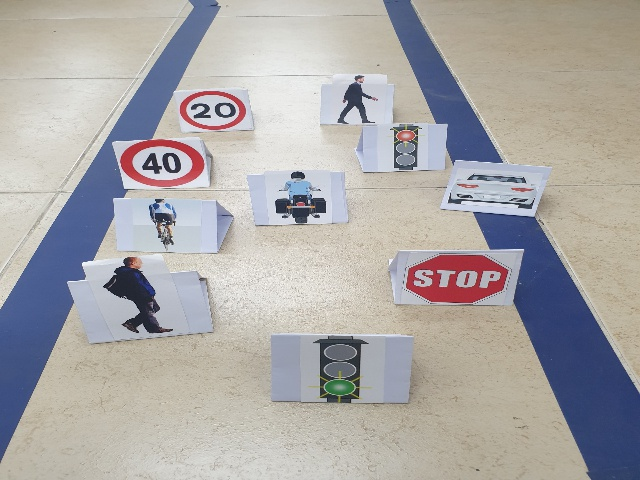Car: (449, 174, 539, 211)
Cyclist: (147, 198, 179, 253)
Green Light: (309, 336, 372, 405)
Limit 20: (180, 91, 246, 129)
Limit 40: (119, 140, 204, 187)
Motorcycle: (271, 172, 327, 224)
Person: (105, 257, 175, 336), (337, 75, 379, 124)
Red Light: (385, 124, 427, 172)
Stop: (404, 253, 512, 306)
